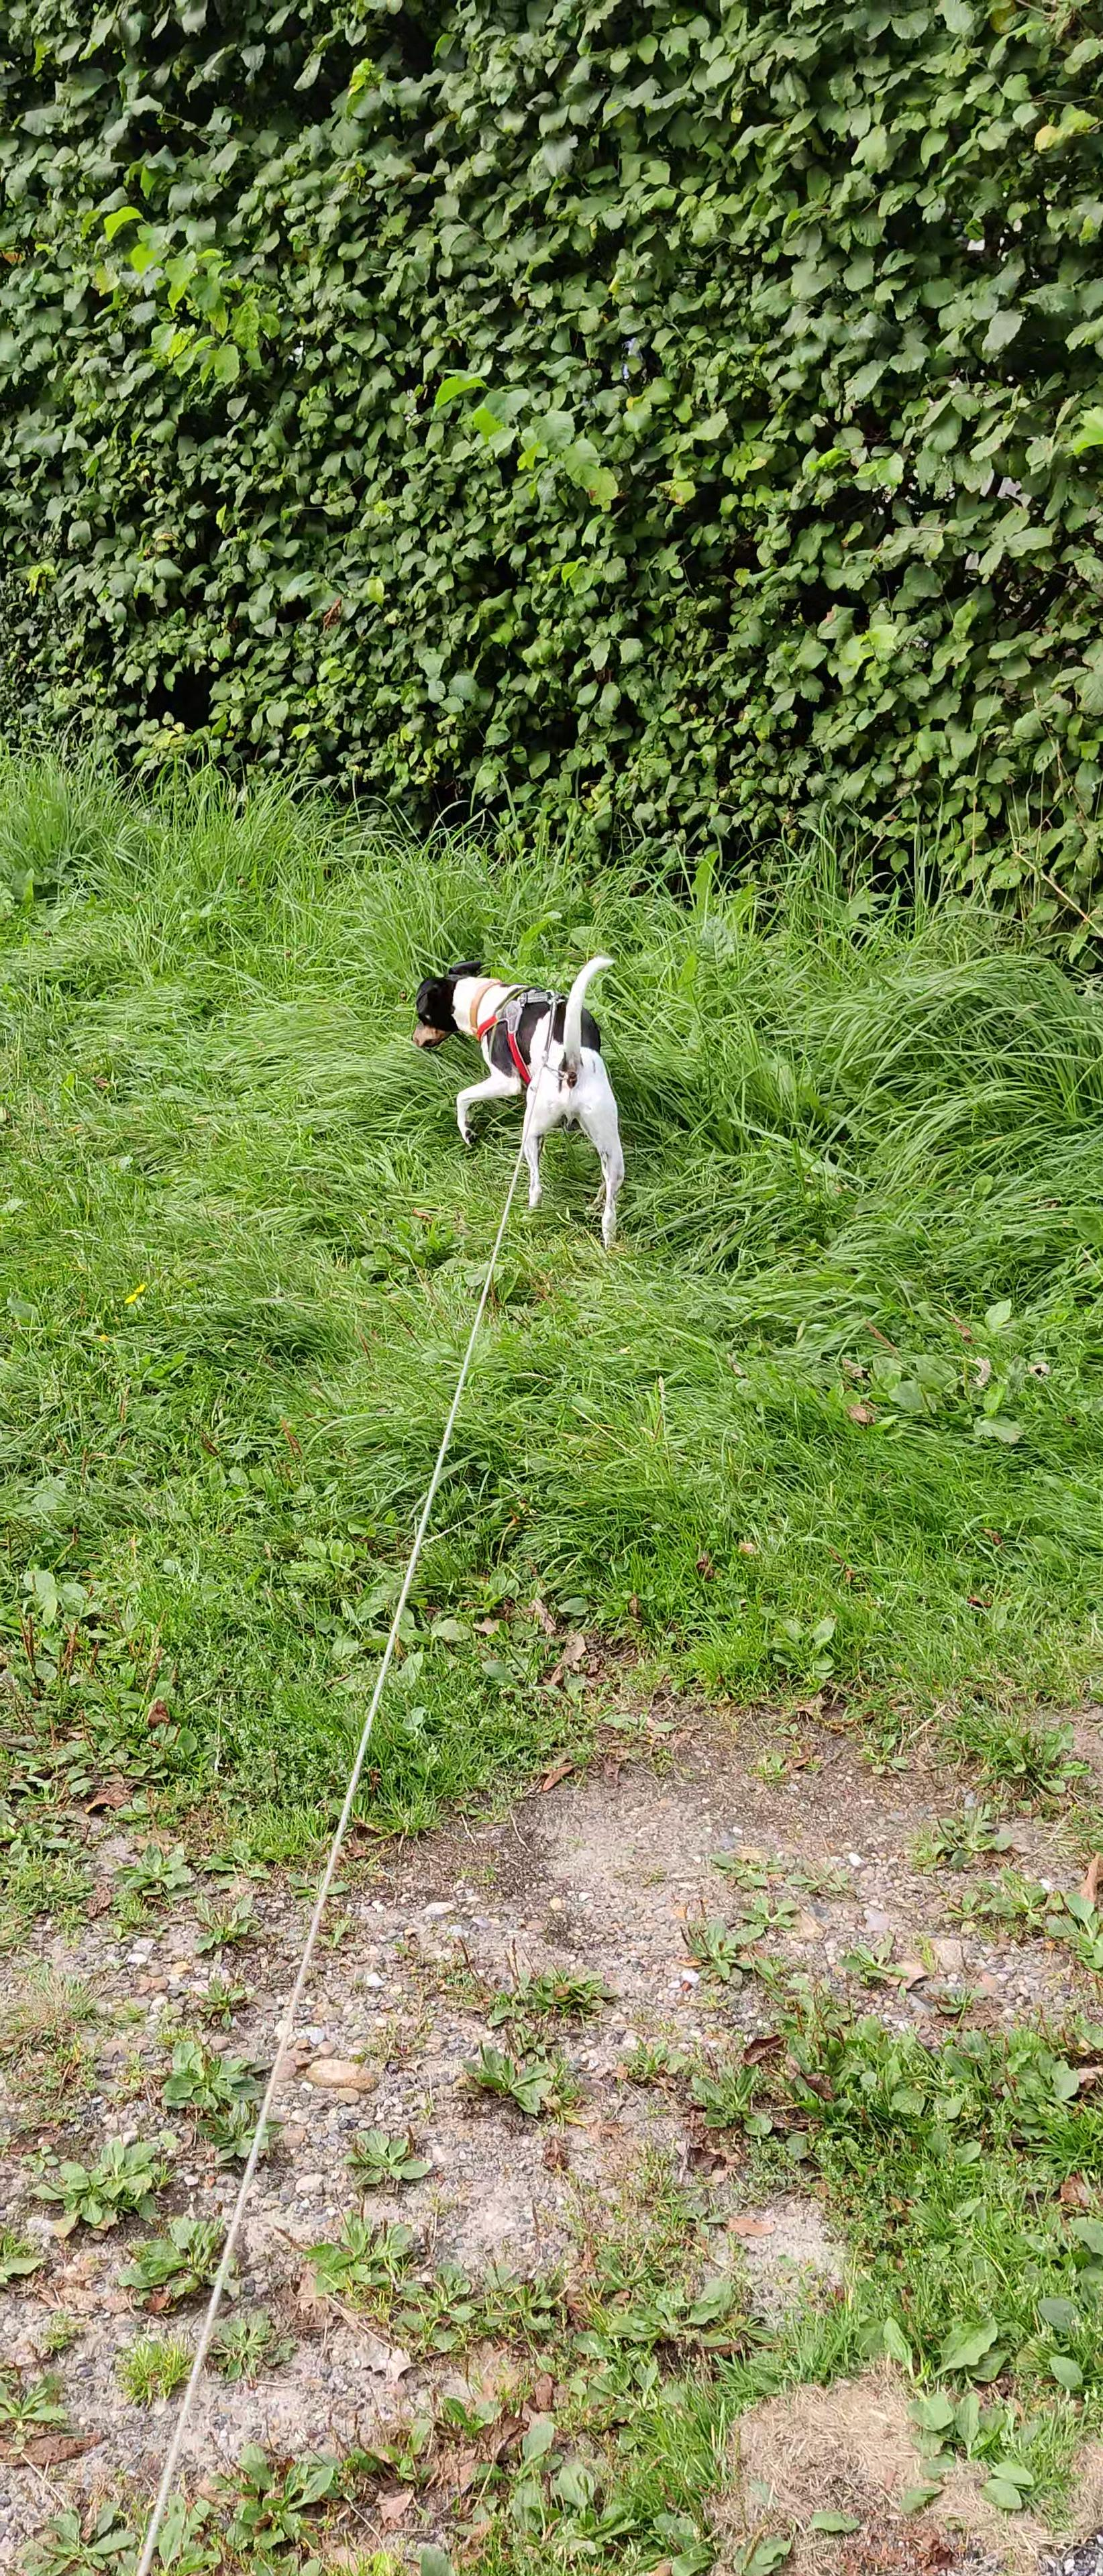Dog: (393, 931, 638, 1258)
